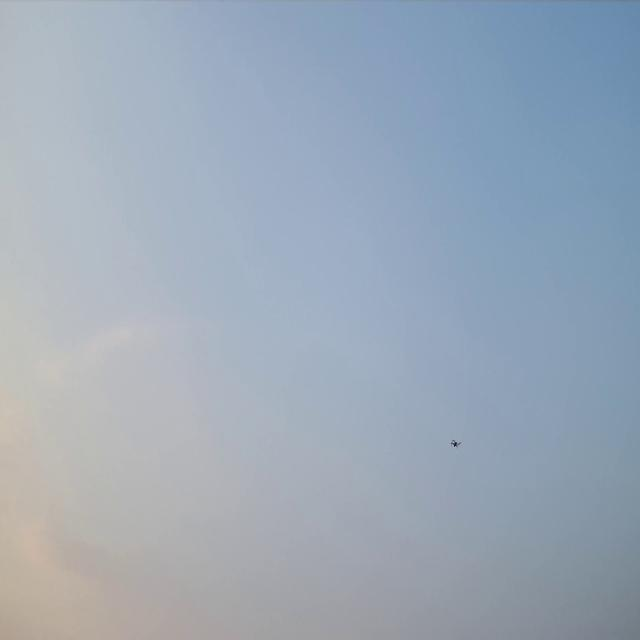UAV: (452, 440, 459, 446)
